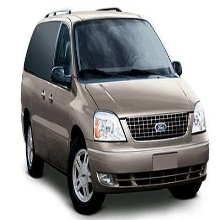no damage: (18, 7, 210, 215)
